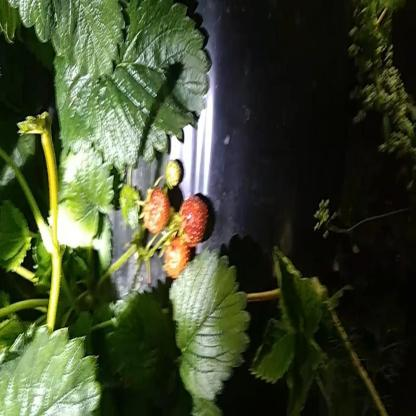ripe: (176, 193, 212, 247), (146, 183, 172, 231), (162, 240, 190, 274)
unripe: (164, 159, 184, 185)
